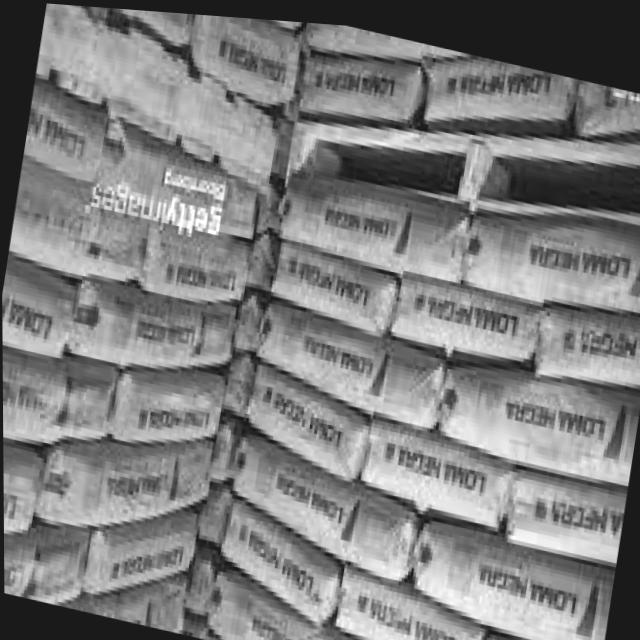cement_bag: (227, 423, 420, 590), (406, 503, 614, 640), (435, 356, 640, 480), (253, 302, 447, 429), (273, 166, 467, 274), (213, 483, 344, 636), (356, 412, 507, 529), (461, 200, 640, 297), (10, 155, 148, 277), (115, 120, 261, 235), (242, 357, 367, 477), (73, 272, 235, 363), (41, 441, 217, 524), (389, 267, 540, 362), (263, 237, 396, 342), (501, 457, 625, 562), (330, 562, 479, 640), (2, 346, 116, 443), (200, 572, 341, 640), (528, 299, 640, 384), (198, 12, 300, 103), (145, 215, 253, 299), (426, 54, 572, 115), (24, 79, 112, 180), (90, 515, 198, 594), (117, 361, 227, 438), (299, 45, 423, 110), (2, 259, 77, 358), (3, 532, 87, 602), (80, 585, 181, 632), (3, 453, 37, 538)
